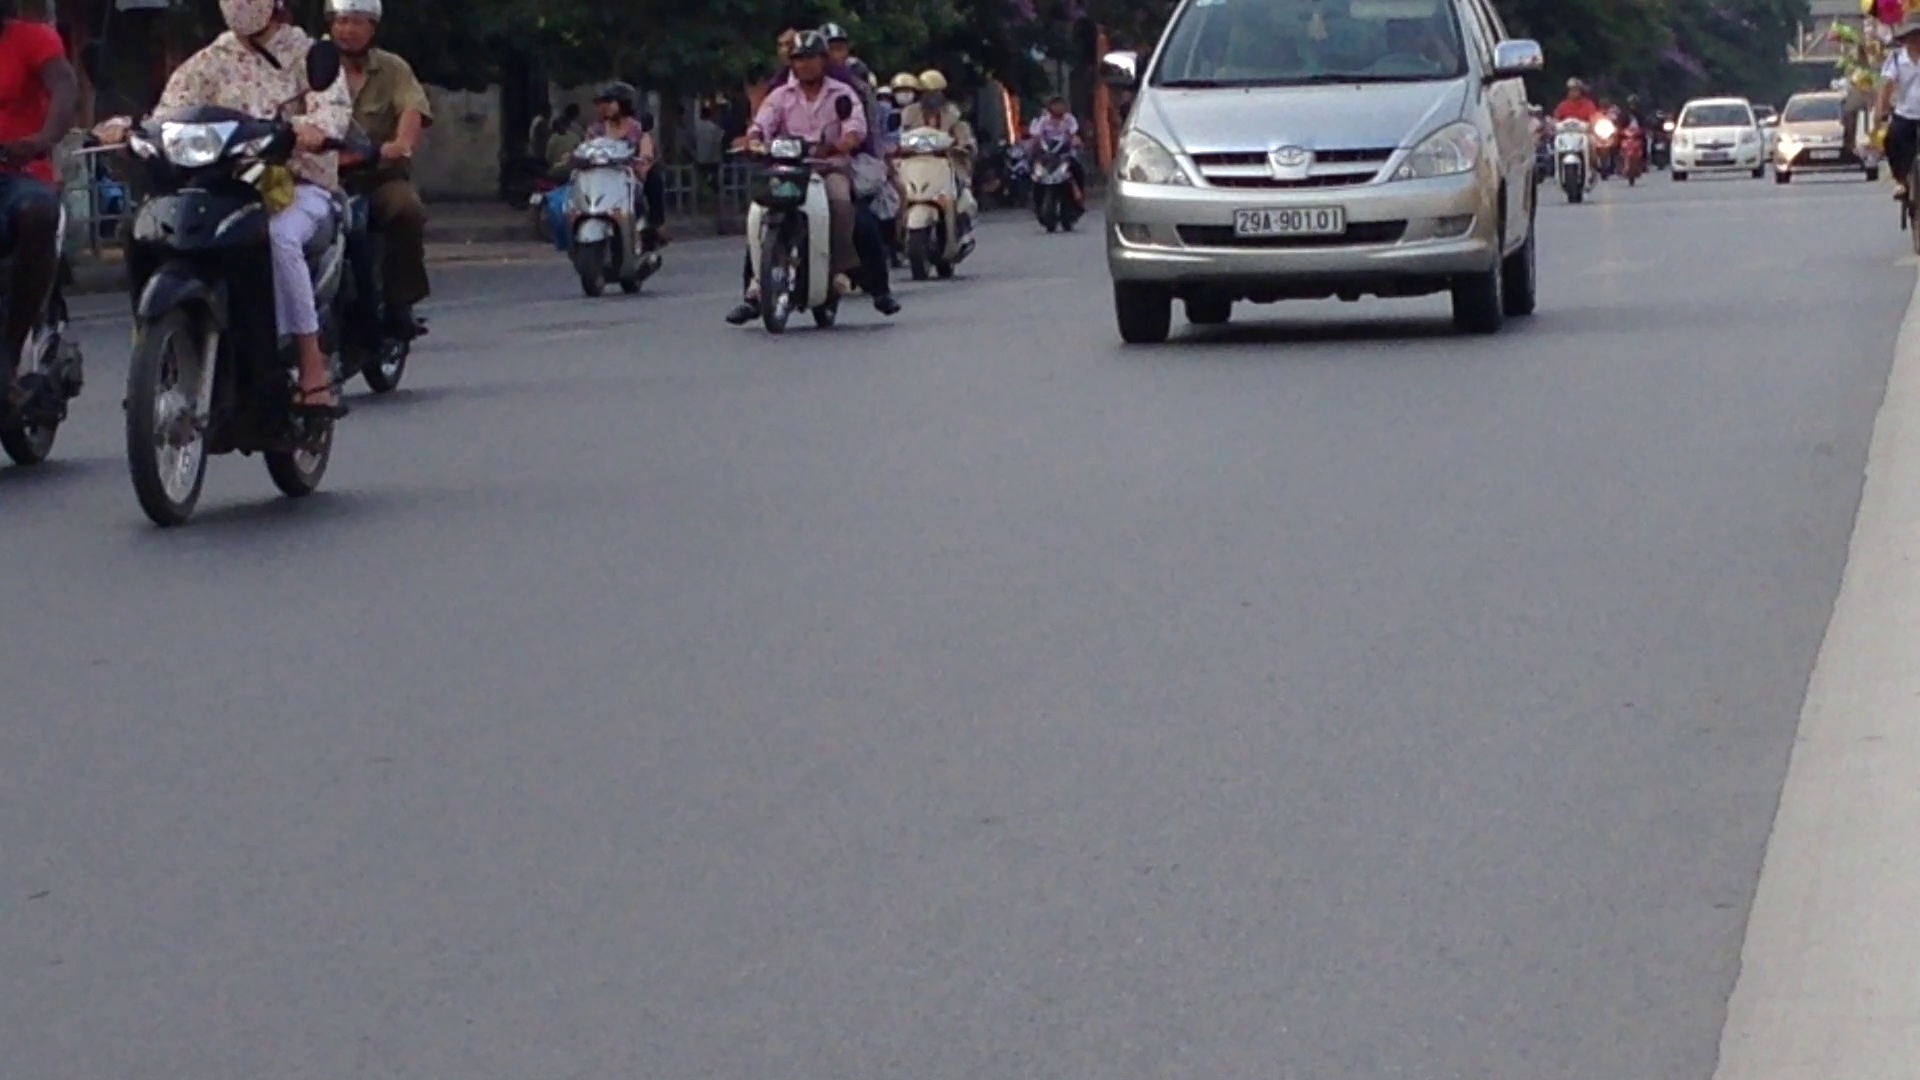vehicle-plate: (1220, 196, 1354, 243)
